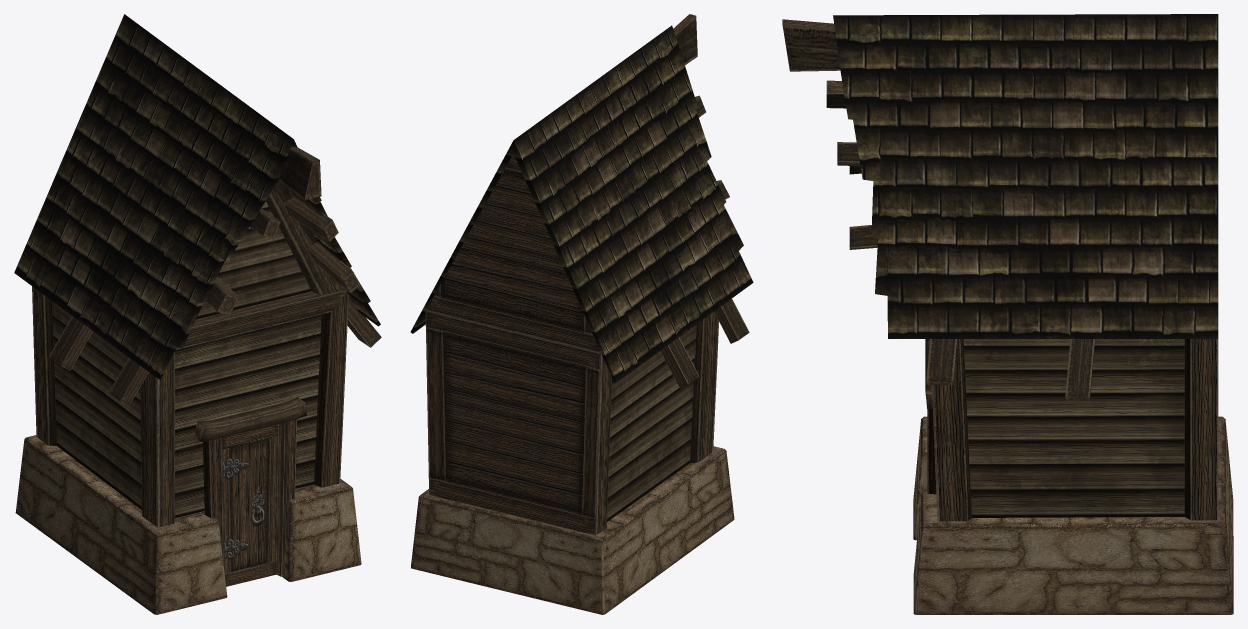
Rendered from House_Entry_03.fbx.
3 renders of one model, left to right at view 1: azimuth 30°, elevation 25°; view 2: azimuth 150°, elevation 25°; view 3: azimuth 270°, elevation 25°, orthographic. The views are drawn at different scales.
Parts seen in each view (by area): view 1: House_Entry_03; view 2: House_Entry_03; view 3: House_Entry_03.
Part boxes in pixels (x1=…): House_Entry_03: x1=14, y1=14, x2=381, y2=614; House_Entry_03: x1=410, y1=14, x2=753, y2=614; House_Entry_03: x1=782, y1=14, x2=1233, y2=614.
Size of the model in its own units: 4.89 by 8.43 by 6.35.
